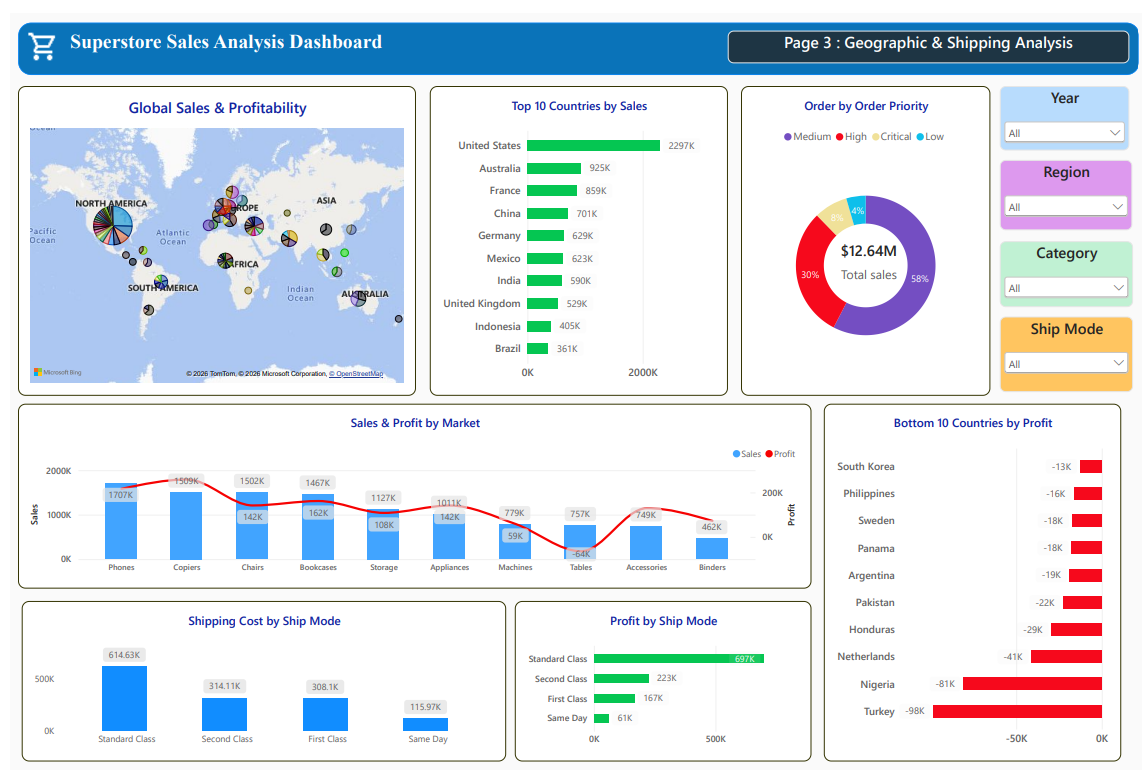

Layout of this report page (visuals, bound fields, positions):
{"tool":"powerbi","page":{"name":"Page 3","canvas":[1536,1024],"ordinal":2},"visuals":[{"type":"map","title":"Global Sales & Profitability","fields":{"Category":["Superstore_Cleaned.country"],"Series":["Superstore_Cleaned.profit"],"Size":["Sum(Superstore_Cleaned.sales)"]},"box":[10,98.3,538.3,418.3],"z":0},{"type":"clusteredBarChart","title":"Top 10 Countries by Sales","fields":{"Category":["Superstore_Cleaned.country"],"Y":["Sum(Superstore_Cleaned.sales)"]},"box":[566.7,98.3,403.3,418.3],"z":1000},{"type":"barChart","title":"Bottom 10 Countries by Profit","fields":{"Y":["Sum(Superstore_Cleaned.profit)"],"Category":["Superstore_Cleaned.country"]},"box":[1100,528.3,401.7,483.3],"z":2000},{"type":"clusteredColumnChart","title":"Shipping Cost by Ship Mode","fields":{"Category":["Superstore_Cleaned.ship_mode"],"Y":["Sum(Superstore_Cleaned.shipping_cost)"]},"box":[15,795,655,216.7],"z":3000},{"type":"donutChart","title":"Order by Order Priority","fields":{"Category":["Superstore_Cleaned.order_priority"],"Y":["Superstore_Cleaned.Total sales"]},"box":[988.3,98.3,336.7,418.3],"z":4000},{"type":"clusteredBarChart","title":"Profit by Ship Mode","fields":{"Category":["Superstore_Cleaned.ship_mode"],"Y":["Sum(Superstore_Cleaned.profit)"]},"box":[681.7,795,401.7,216.7],"z":5000},{"type":"shape","box":[10,11.7,1516.7,71.7],"z":6000},{"type":"image","box":[21.7,16.7,42.9,55.4],"z":7000},{"type":"textbox","box":[65,23.3,453.3,43.3],"z":8000},{"type":"textbox","box":[970,23.3,543.3,43.3],"z":9000},{"type":"slicer","title":"Year","fields":{"Values":["Superstore_Cleaned.year"]},"box":[1338.3,98.3,175,86.7],"z":10000},{"type":"slicer","title":"Region","fields":{"Values":["Superstore_Cleaned.region"]},"box":[1338.3,198.3,178.3,95],"z":11000},{"type":"slicer","title":"Category","fields":{"Values":["Superstore_Cleaned.category"]},"box":[1338.3,308.3,180,88.3],"z":12000},{"type":"slicer","title":"Ship Mode","fields":{"Values":["Superstore_Cleaned.ship_mode"]},"box":[1338.3,410,180,101.7],"z":13000},{"type":"lineClusteredColumnComboChart","title":"Sales & Profit by Market","fields":{"Category":["Superstore_Cleaned.sub_category"],"Y":["Sum(Superstore_Cleaned.sales)"],"Y2":["Sum(Superstore_Cleaned.profit)"]},"box":[10,528.3,1073.3,250],"z":14000},{"type":"card","fields":{"Values":["Superstore_Cleaned.Total sales"]},"box":[1100,246.7,121.7,175],"z":15000}]}

Visuals, with their boxes in screenshot pixels (x1, y1, x2, y2), scaled from the page's 1536x1024 canvas onto the 1142x780 screenshot:
"Global Sales & Profitability" map: (left=7, top=75, right=408, bottom=394)
"Top 10 Countries by Sales" clusteredBarChart: (left=421, top=75, right=721, bottom=394)
"Bottom 10 Countries by Profit" barChart: (left=818, top=402, right=1116, bottom=771)
"Shipping Cost by Ship Mode" clusteredColumnChart: (left=11, top=606, right=498, bottom=771)
"Order by Order Priority" donutChart: (left=735, top=75, right=985, bottom=394)
"Profit by Ship Mode" clusteredBarChart: (left=507, top=606, right=805, bottom=771)
shape: (left=7, top=9, right=1135, bottom=64)
image: (left=16, top=13, right=48, bottom=55)
textbox: (left=48, top=18, right=385, bottom=51)
textbox: (left=721, top=18, right=1125, bottom=51)
"Year" slicer: (left=995, top=75, right=1125, bottom=141)
"Region" slicer: (left=995, top=151, right=1128, bottom=223)
"Category" slicer: (left=995, top=235, right=1129, bottom=302)
"Ship Mode" slicer: (left=995, top=312, right=1129, bottom=390)
"Sales & Profit by Market" lineClusteredColumnComboChart: (left=7, top=402, right=805, bottom=593)
card - Superstore_Cleaned.Total sales: (left=818, top=188, right=908, bottom=321)
